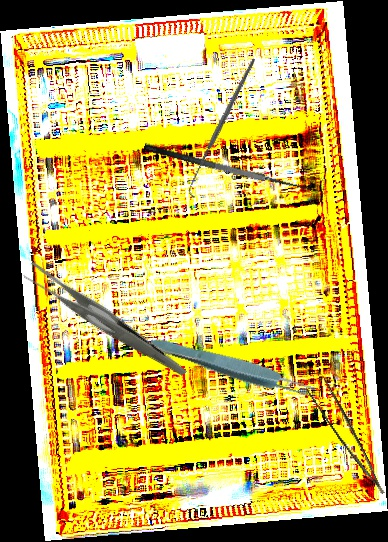Dressing Forceps: (20, 229, 187, 415)
Hook Surgical: (145, 57, 301, 199)
Spatula Surgical: (143, 128, 315, 199)
Tissue Forceps: (147, 332, 319, 404), (304, 373, 385, 504)
